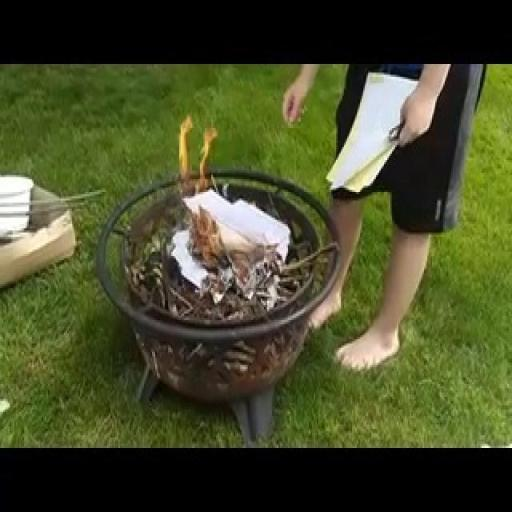smoke: (166, 102, 232, 269)
